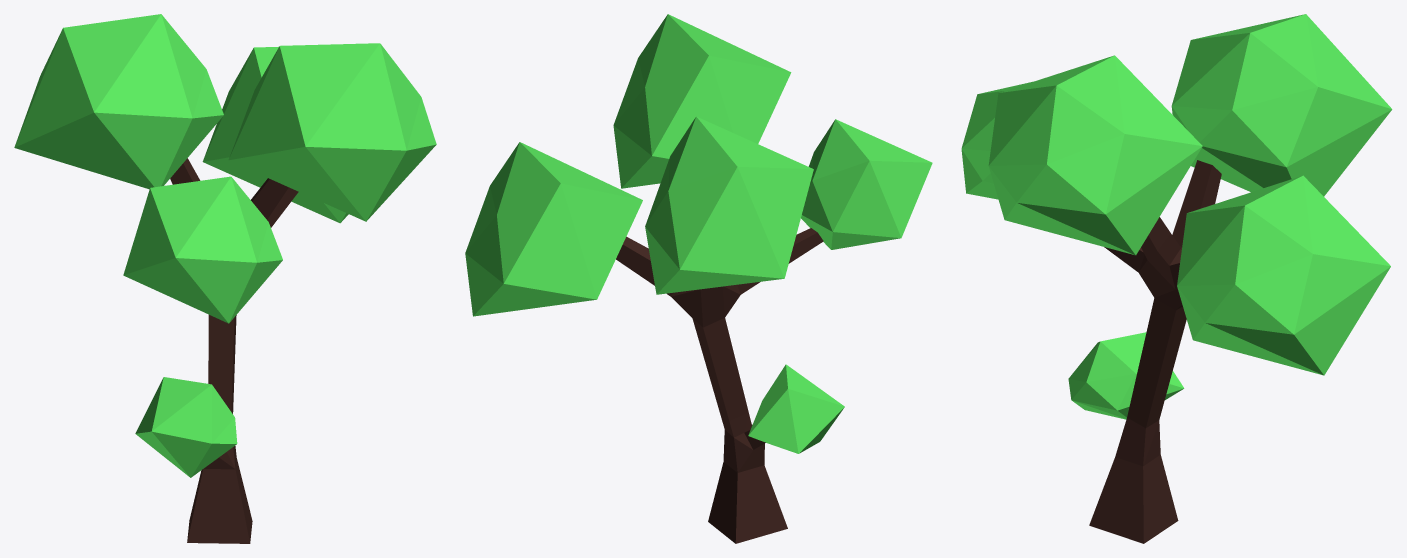
Rendered from Tree3.fbx.
3 views of the same model, side by side, from view 1: azimuth 30°, elevation 25°; view 2: azimuth 150°, elevation 25°; view 3: azimuth 270°, elevation 25° (orthographic). The views are drawn at different scales.
Visible parts, largest first — view 1: Cube; view 2: Cube; view 3: Cube.
Boxes of the visible parts, x1=… form: Cube: x1=14, y1=14, x2=436, y2=543; Cube: x1=465, y1=14, x2=932, y2=543; Cube: x1=961, y1=14, x2=1392, y2=543.
Bounding box in the file's own units: 325 × 427 × 333.
